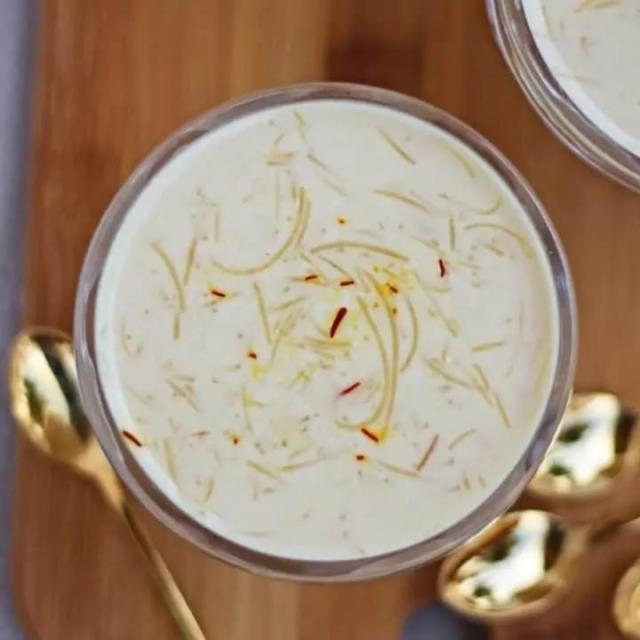shavige payasa: (86, 85, 571, 571)
